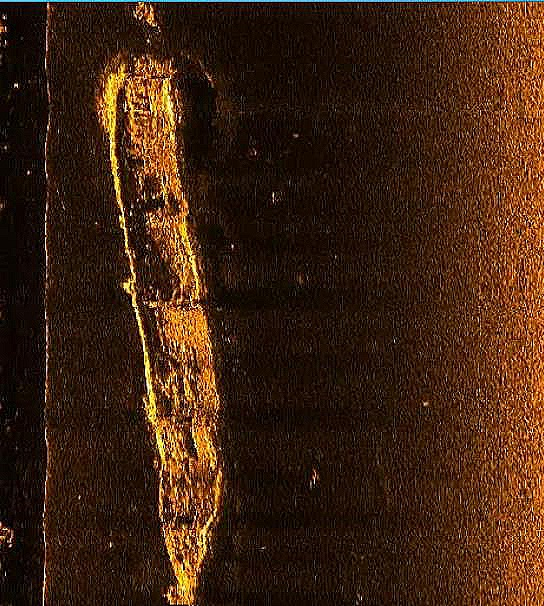ship: (93, 1, 230, 606)
